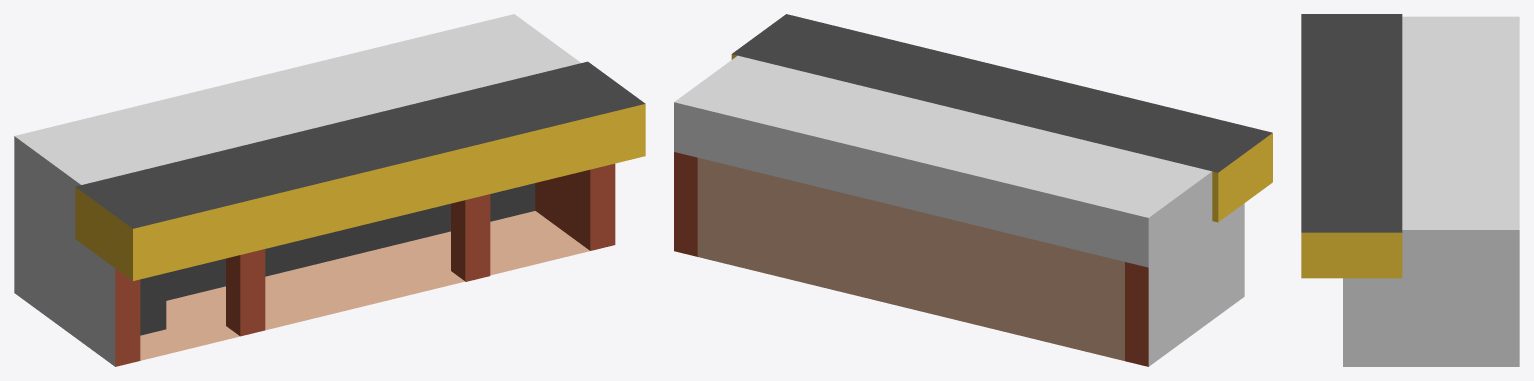
File: marquise - Copy (2).glb
The picture shows the model from 3 angles, left to right: view 1: azimuth 30°, elevation 25°; view 2: azimuth 150°, elevation 25°; view 3: azimuth 270°, elevation 25°; orthographic projection. The views are drawn at different scales.
Visible parts, largest first — view 1: Cube.004; view 2: Cube.004; view 3: Cube.004.
Boxes of the visible parts, x1,y1,x2,y2 form: Cube.004: (14,14,645,366); Cube.004: (674,14,1272,366); Cube.004: (1301,14,1519,366).
Bounding box in the file's own units: 10.25 × 3.01 × 4.32.
